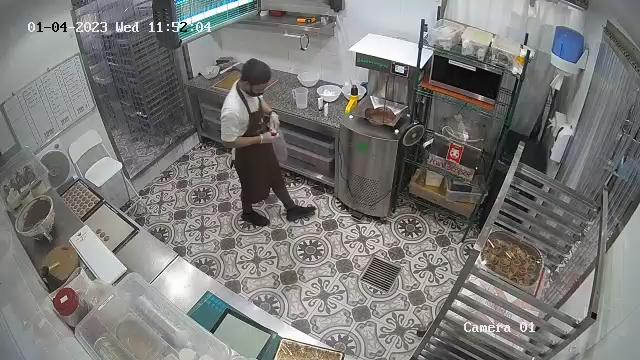apron: (229, 92, 280, 185)
